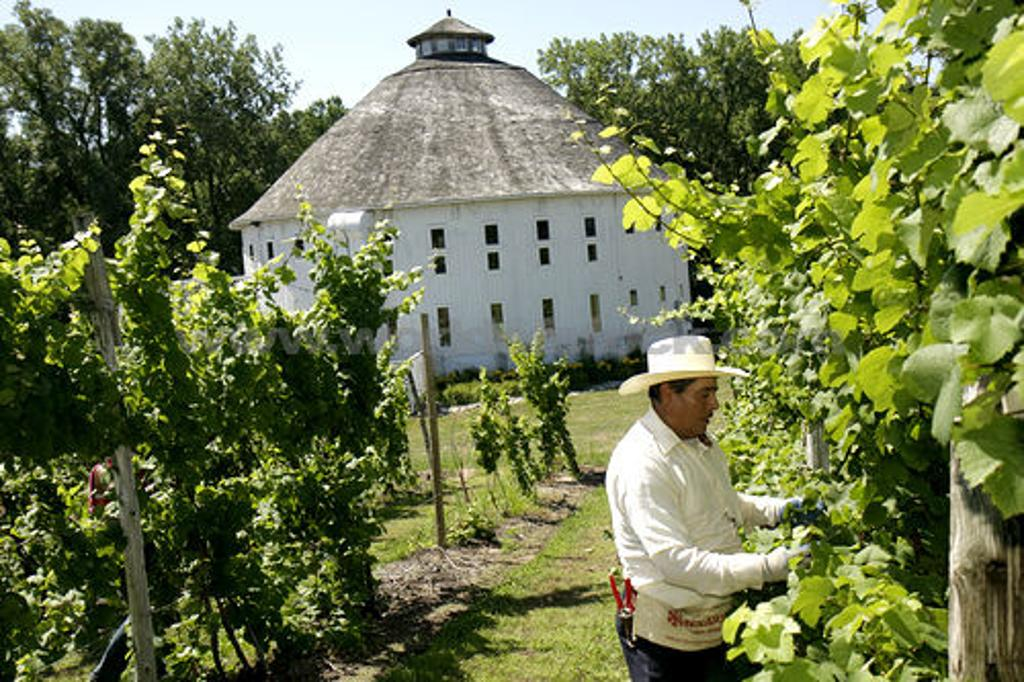face: (658, 354, 718, 438)
